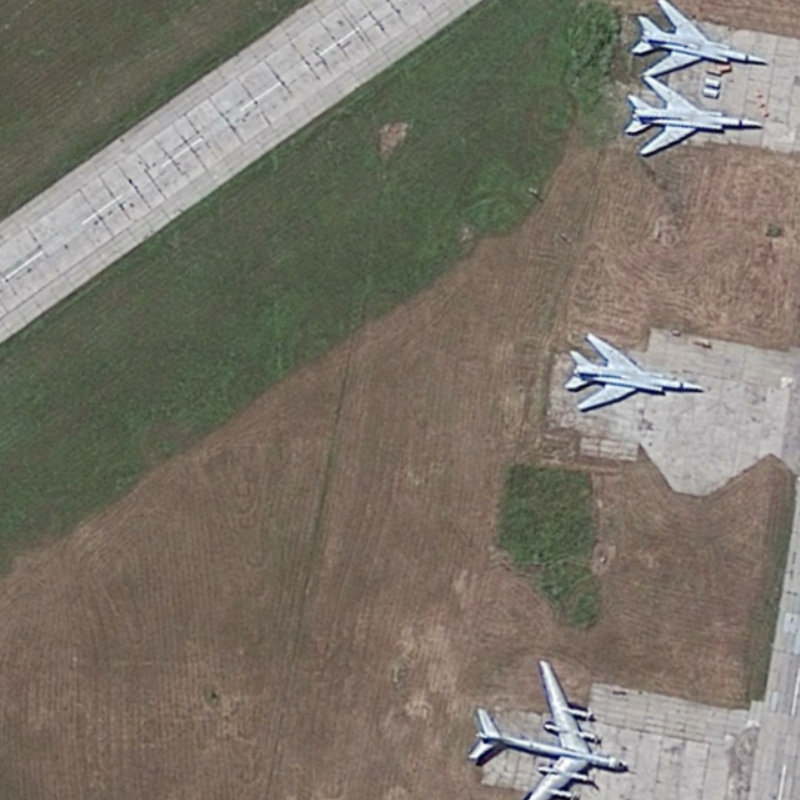A12: (622, 73, 767, 158), (562, 330, 705, 413), (628, 1, 770, 79)
A17: (465, 657, 630, 800)
